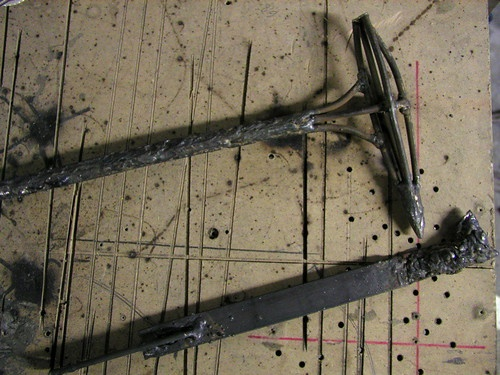hammer: (1, 15, 428, 234)
